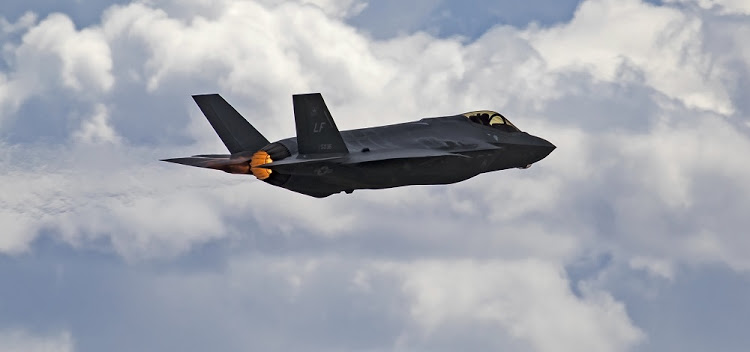F-35 Lightning: (152, 75, 571, 201)
